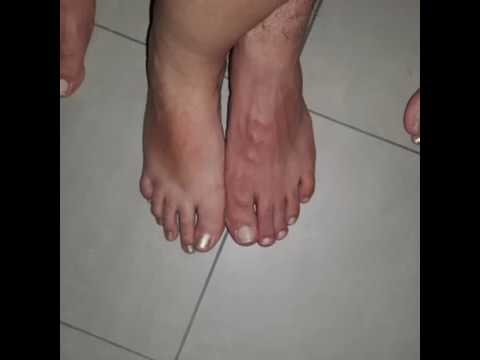feet: (119, 0, 235, 254), (119, 0, 227, 254)
